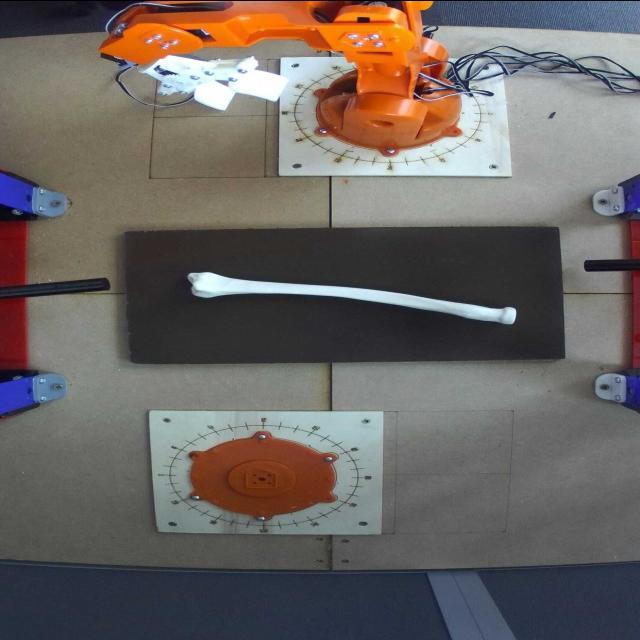bone: (184, 268, 522, 328)
